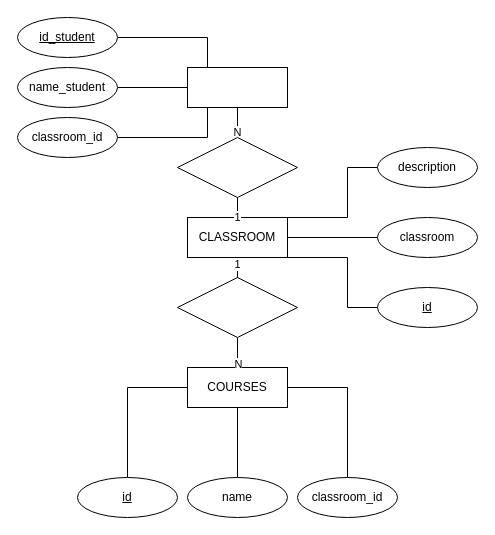
Image size: 495x535. Some labels were removed from this diagram. The box of each missing label's shape, as (x1, y1, x2, y2) in pixels:
IMPARTE: (176, 276, 298, 338)
PERTENECE A: (176, 136, 298, 198)
STUDENTS: (186, 66, 288, 108)
